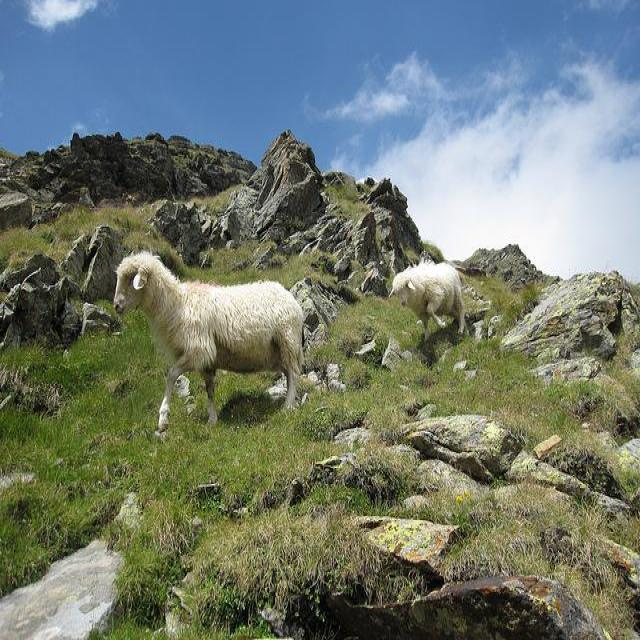Sheep: (113, 250, 305, 433), (393, 260, 470, 343)
